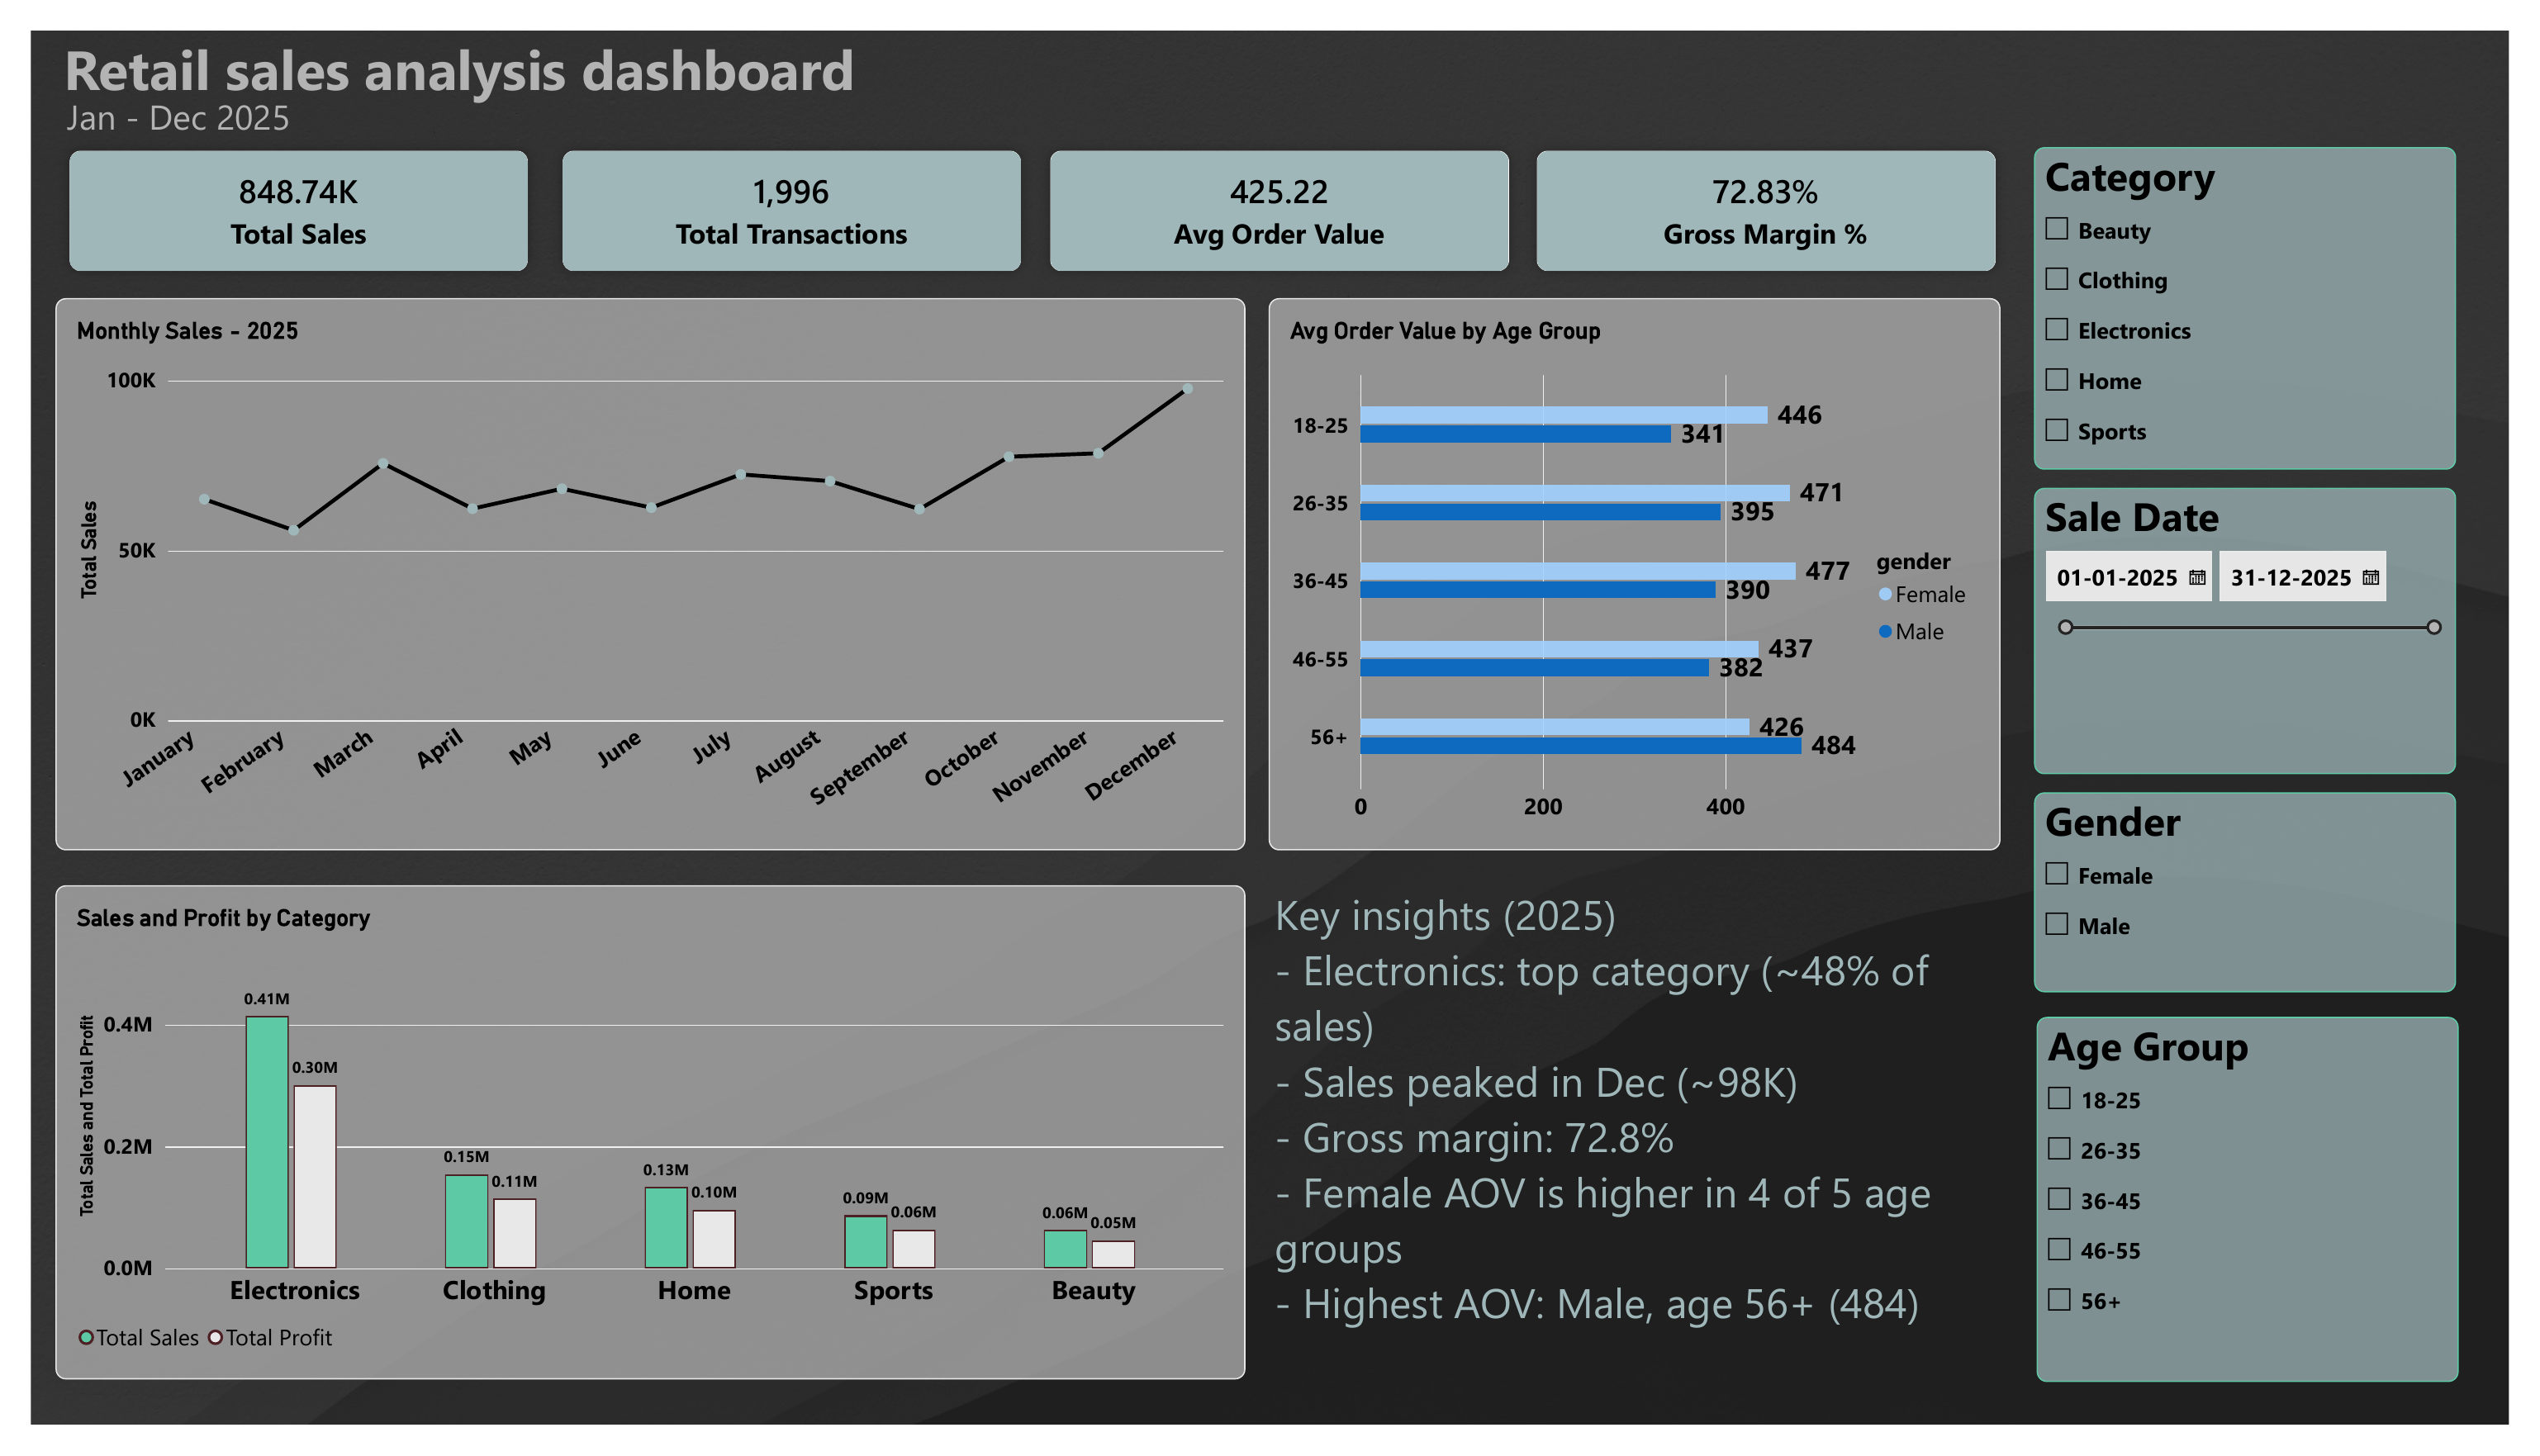

The dashboard page shown, as its layout file describes it:
{"tool":"powerbi","page":{"name":"Page 1","canvas":[1920,1080],"ordinal":0},"visuals":[{"type":"textbox","box":[18.7,0,627.5,82.5],"z":0},{"type":"cardVisual","fields":{"Data":["Sum(RSA.total_sale)"]},"box":[18.7,82.5,377.5,115],"z":1000},{"type":"textbox","box":[131.2,780,300,300],"z":2000},{"type":"cardVisual","fields":{"Data":["RSA.Total Transactions"]},"box":[401.2,82.5,377.5,115],"z":3000},{"type":"cardVisual","fields":{"Data":["RSA.Profit Margin %"]},"box":[1156.2,82.5,377.5,115],"z":4000},{"type":"cardVisual","fields":{"Data":["RSA.Average Order Value"]},"box":[778.7,82.5,377.5,115],"z":5000},{"type":"lineChart","title":"Monthly Sales - 2025","fields":{"Category":["RSA.sale_date.Variation.Date Hierarchy.Month"],"Y":["RSA.Total Sales"]},"box":[18.7,207.5,922.5,427.5],"z":6000},{"type":"clusteredBarChart","title":"Avg Order Value by Age Group","fields":{"Category":["RSA.Age Group"],"Series":["RSA.gender"],"Y":["RSA.Average Order Value"]},"box":[958.7,207.5,567.5,427.5],"z":7000},{"type":"clusteredColumnChart","title":"Sales and Profit by Category","fields":{"Category":["RSA.category"],"Y":["RSA.Total Sales","RSA.Total Profit"]},"box":[18.7,662.5,922.5,382.5],"z":8000},{"type":"slicer","fields":{"Values":["RSA.category"]},"box":[1551.7,90,327.5,250],"z":9000},{"type":"slicer","fields":{"Values":["RSA.gender"]},"box":[1551.7,590,327.3,155],"z":10000},{"type":"slicer","fields":{"Values":["RSA.sale_date"]},"box":[1551.7,354,327.3,222],"z":11000},{"type":"slicer","fields":{"Values":["RSA.Age Group"]},"box":[1553.7,763.6,327.3,283],"z":12000},{"type":"textbox","box":[963.7,662.5,557.5,382.5],"z":13000},{"type":"textbox","box":[28,47.5,300,42.5],"z":14000}]}

Visuals, with their boxes in screenshot pixels (x1, y1, x2, y2):
textbox: pyautogui.locateOnScreen(25, 20, 843, 127)
cardVisual - Sum(RSA.total_sale): pyautogui.locateOnScreen(25, 127, 517, 277)
textbox: pyautogui.locateOnScreen(171, 1037, 563, 1429)
cardVisual - RSA.Total Transactions: pyautogui.locateOnScreen(524, 127, 1016, 277)
cardVisual - RSA.Profit Margin %: pyautogui.locateOnScreen(1508, 127, 2001, 277)
cardVisual - RSA.Average Order Value: pyautogui.locateOnScreen(1016, 127, 1508, 277)
"Monthly Sales - 2025" lineChart: pyautogui.locateOnScreen(25, 291, 1228, 848)
"Avg Order Value by Age Group" clusteredBarChart: pyautogui.locateOnScreen(1251, 291, 1992, 848)
"Sales and Profit by Category" clusteredColumnChart: pyautogui.locateOnScreen(25, 884, 1228, 1383)
slicer - RSA.category: pyautogui.locateOnScreen(2025, 137, 2452, 463)
slicer - RSA.gender: pyautogui.locateOnScreen(2025, 790, 2452, 992)
slicer - RSA.sale_date: pyautogui.locateOnScreen(2025, 481, 2452, 771)
slicer - RSA.Age Group: pyautogui.locateOnScreen(2027, 1016, 2454, 1385)
textbox: pyautogui.locateOnScreen(1257, 884, 1985, 1383)
textbox: pyautogui.locateOnScreen(36, 82, 428, 137)
